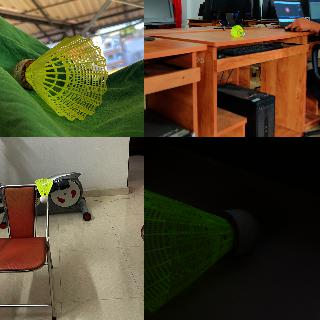shuttlecock: (144, 187, 260, 311), (12, 34, 108, 120), (35, 178, 53, 202), (230, 25, 244, 37)
